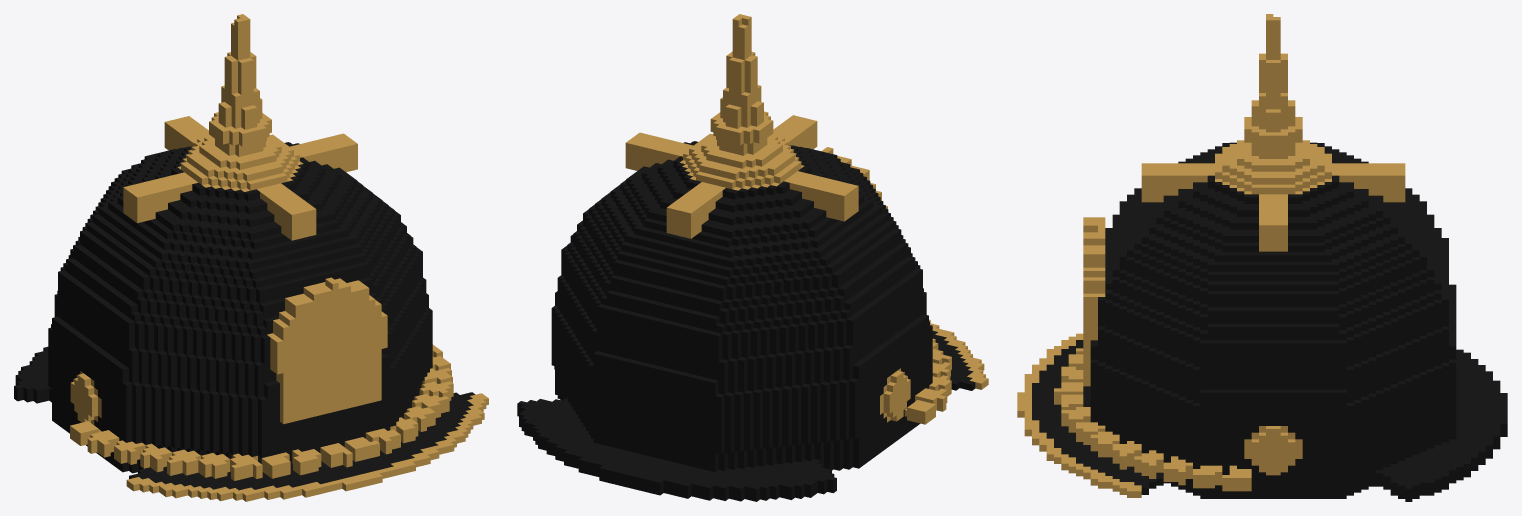
File: pickelhaube.glb
The picture shows the model from 3 angles, left to right: view 1: azimuth 30°, elevation 25°; view 2: azimuth 150°, elevation 25°; view 3: azimuth 270°, elevation 25°; orthographic projection. The views are drawn at different scales.
Visible parts, largest first — view 1: pickelhaube:compound; view 2: pickelhaube:compound; view 3: pickelhaube:compound.
Boxes of the visible parts, bbox=[...] form: pickelhaube:compound: bbox=[14, 14, 488, 501]; pickelhaube:compound: bbox=[517, 14, 988, 501]; pickelhaube:compound: bbox=[1017, 14, 1507, 501].
Bounding box in the file's own units: 0.232 × 0.244 × 0.268.
